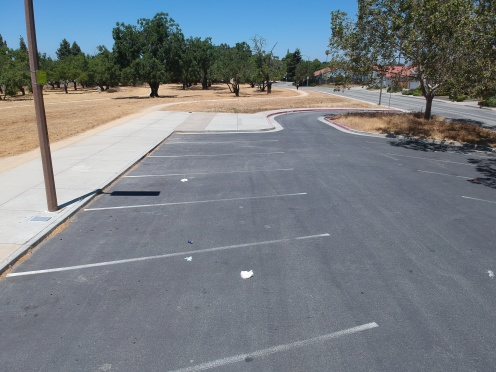can: (184, 236, 197, 246)
plastic bag: (236, 264, 263, 282)
